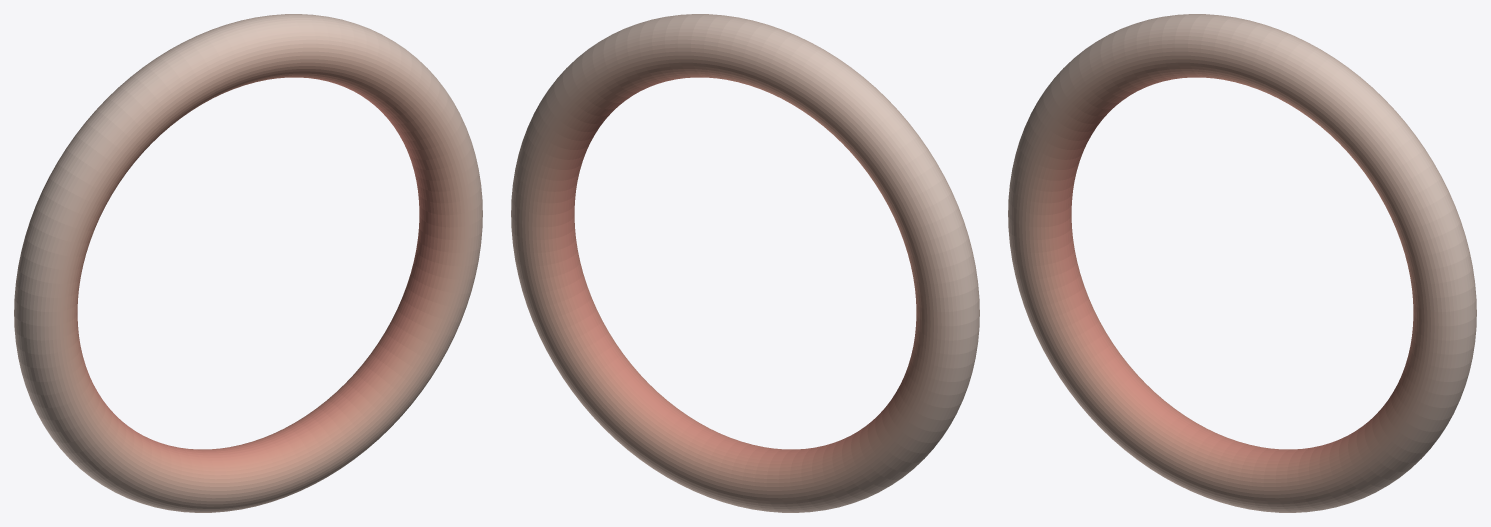
3 renders of one model, left to right at view 1: azimuth 30°, elevation 25°; view 2: azimuth 150°, elevation 25°; view 3: azimuth 330°, elevation 25°, orthographic.
Visible parts, largest first — view 1: world; view 2: world; view 3: world.
Part boxes in pixels (x1,y1,x2,y2): world: (14,14,482,512); world: (511,14,979,512); world: (1008,14,1476,512).
Size of the model in its own units: 21.2 by 21.2 by 2.53.
